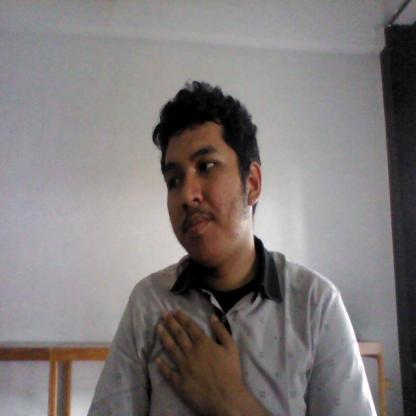Saya: (142, 306, 244, 416)
